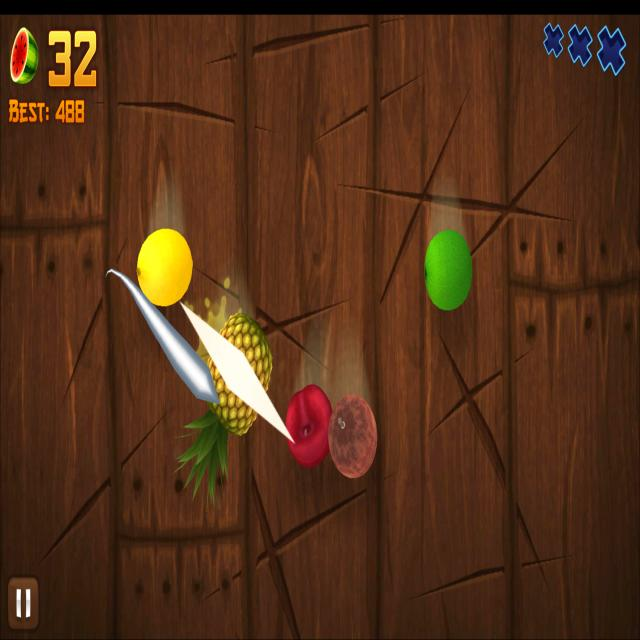fruit: (206, 312, 273, 436), (136, 229, 194, 307), (328, 394, 378, 479), (424, 229, 473, 310), (286, 383, 332, 467)
